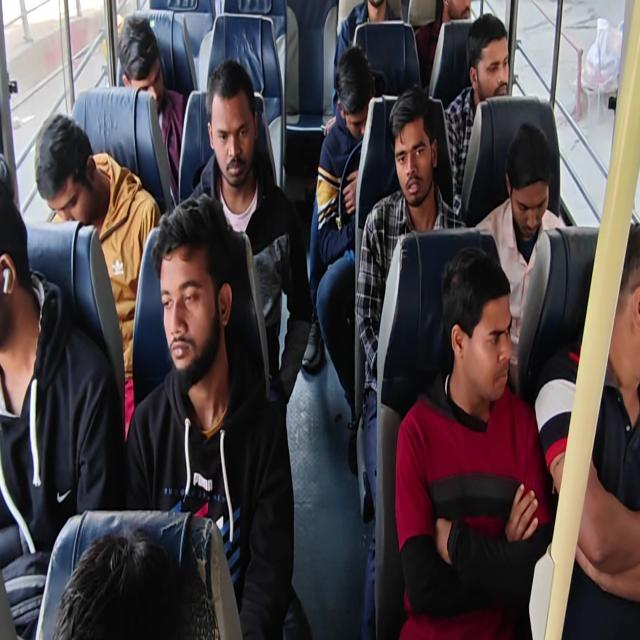person: (1, 2, 638, 638), (123, 192, 310, 638), (394, 246, 556, 638), (354, 86, 468, 638), (0, 194, 125, 638), (186, 58, 313, 414), (534, 221, 639, 638), (34, 112, 162, 440), (311, 44, 377, 470), (474, 121, 566, 392), (52, 527, 182, 639), (116, 13, 186, 205), (444, 13, 510, 216), (331, 0, 402, 116), (414, 0, 472, 88)
